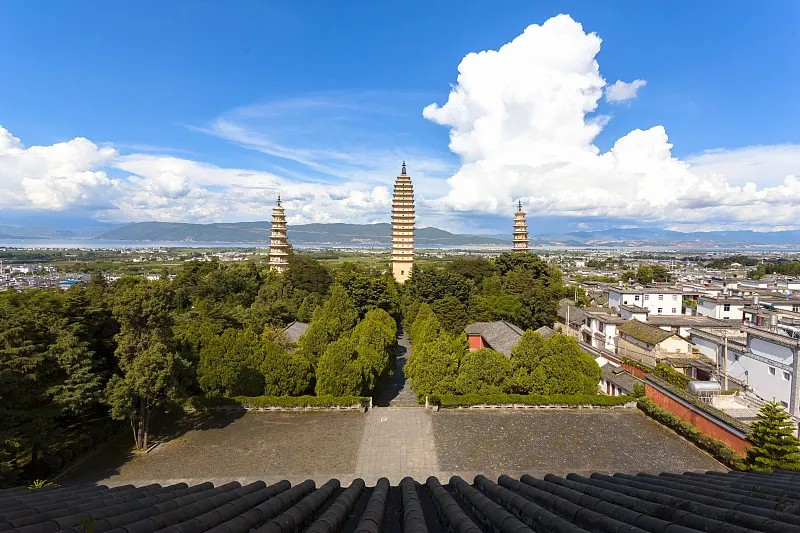ThreePagoda: (391, 161, 415, 284)
